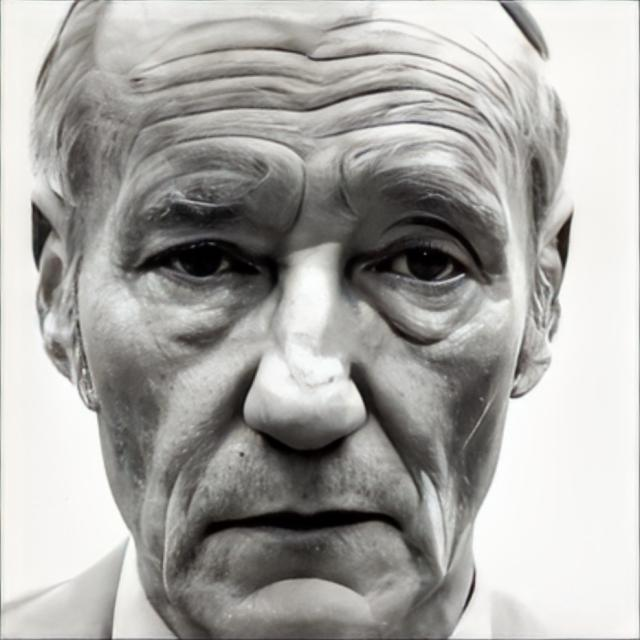sad: (77, 0, 536, 640)
